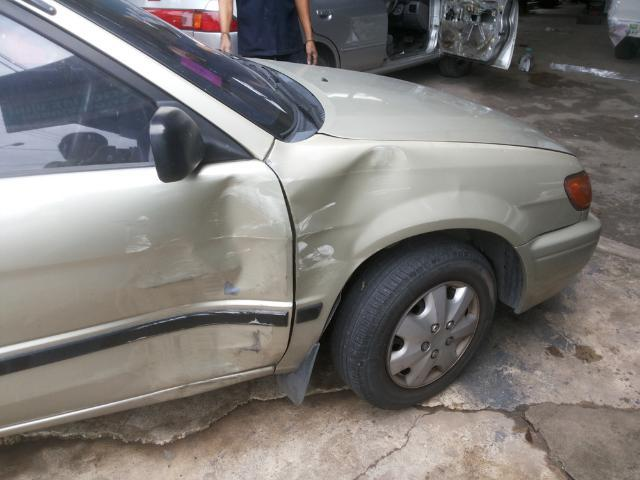dent: (117, 170, 291, 397), (290, 147, 412, 301)
